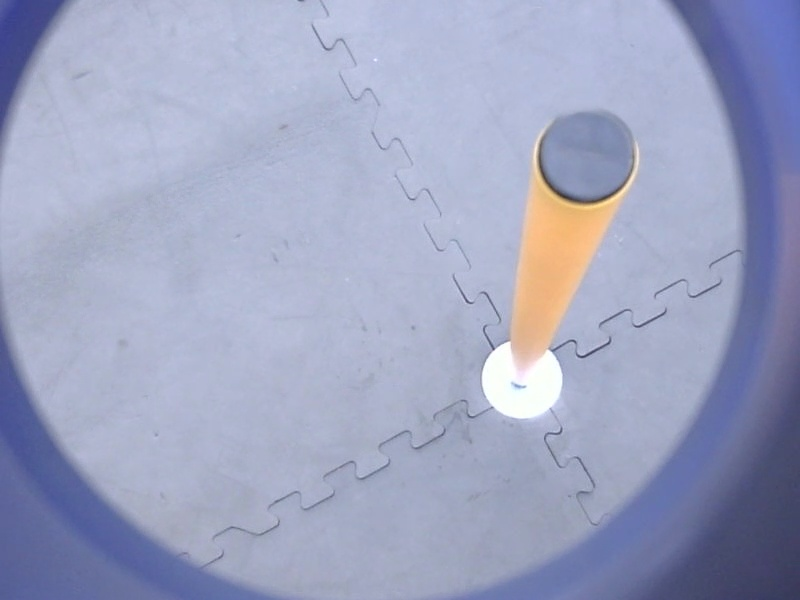tip: (530, 103, 645, 216)
